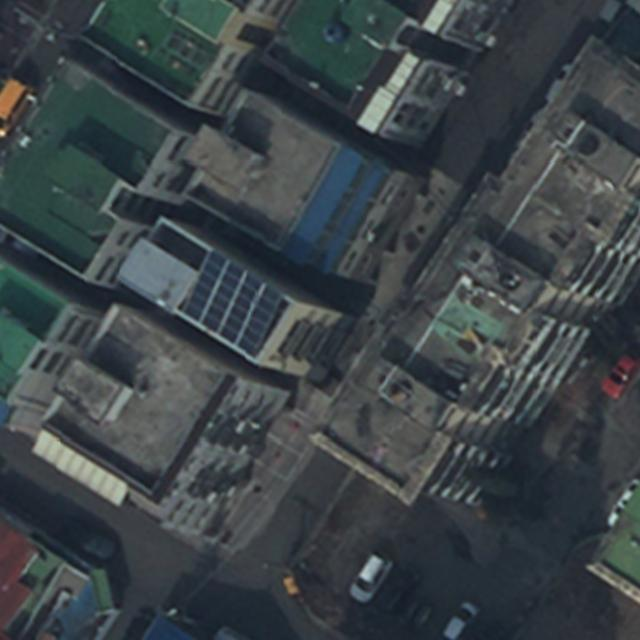panel: (180, 252, 286, 365)
